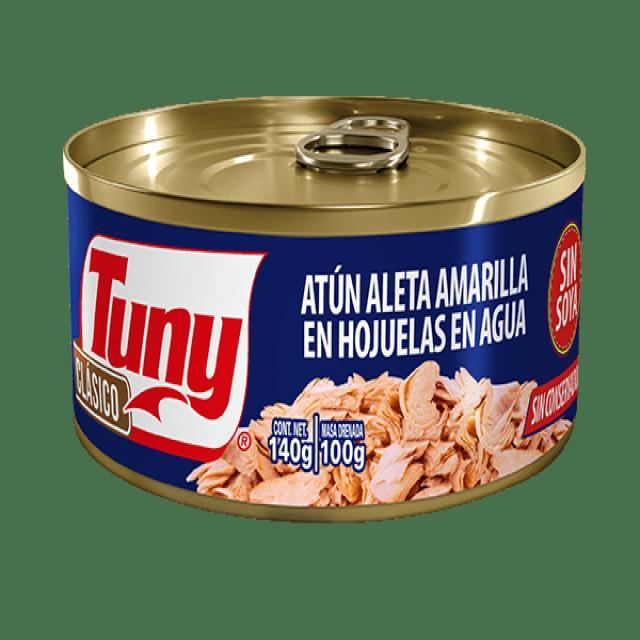Lata: (56, 93, 584, 527)
